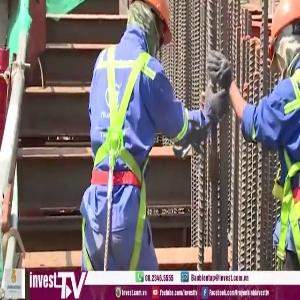drone: (136, 79, 251, 194)
